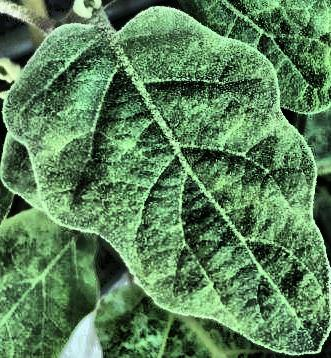HEALTHY: (0, 1, 331, 358)
